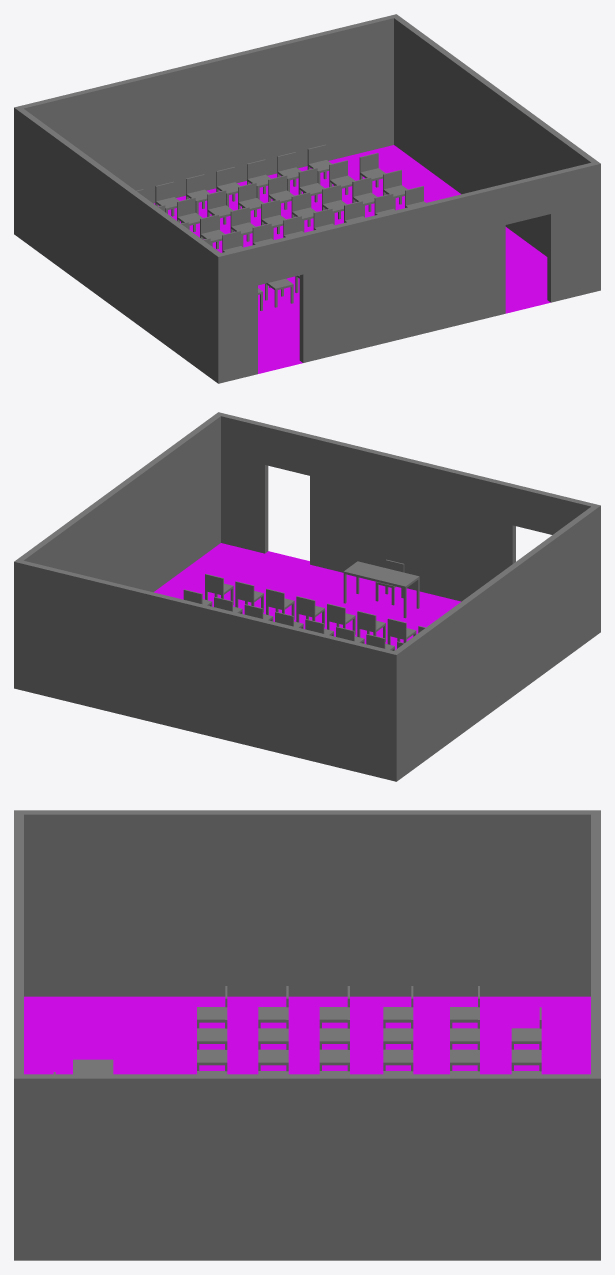
File: auditorium.fbx
3 renders of one model, top to bottom at view 1: azimuth 30°, elevation 25°; view 2: azimuth 150°, elevation 25°; view 3: azimuth 270°, elevation 25°, orthographic. The views are drawn at different scales.
Parts seen in each view (by area): view 1: Layer 01, floors, Object_18, Object_27, Object_25, Object_33, Object_31, Object_24, Object_15, Object_17, Object_22, Object_35 (+10 smaller); view 2: Layer 01, floors, Object_11, Object_58, Object_56, Object_60, Object_57, Object_59, Object_55, Object_61; view 3: Layer 01, floors, Object_11.
Boxes of the visible parts, x1=… form: Layer 01: x1=14, y1=14, x2=600, y2=383; floors: x1=154, y1=145, x2=550, y2=373; Object_18: x1=307, y1=144, x2=334, y2=185; Object_27: x1=359, y1=153, x2=387, y2=194; Object_25: x1=298, y1=167, x2=325, y2=209; Object_33: x1=291, y1=192, x2=316, y2=232; Object_31: x1=230, y1=207, x2=255, y2=246; Object_24: x1=268, y1=175, x2=295, y2=216; Object_15: x1=216, y1=167, x2=243, y2=208; Object_17: x1=277, y1=152, x2=304, y2=193; Object_22: x1=207, y1=190, x2=234, y2=231; Object_35: x1=352, y1=177, x2=376, y2=217; Layer 01: x1=14, y1=412, x2=600, y2=781; floors: x1=154, y1=543, x2=460, y2=649; Object_11: x1=343, y1=561, x2=419, y2=618; Object_58: x1=296, y1=596, x2=324, y2=627; Object_56: x1=235, y1=581, x2=263, y2=612; Object_60: x1=357, y1=611, x2=385, y2=641; Object_57: x1=266, y1=588, x2=294, y2=619; Object_59: x1=327, y1=603, x2=355, y2=634; Object_55: x1=205, y1=574, x2=233, y2=604; Object_61: x1=387, y1=618, x2=416, y2=644; Layer 01: x1=14, y1=810, x2=600, y2=1260; floors: x1=24, y1=996, x2=590, y2=1074; Object_11: x1=73, y1=1059, x2=113, y2=1074.
Bounding box in the file's own units: 31.59 × 29.22 × 10.
